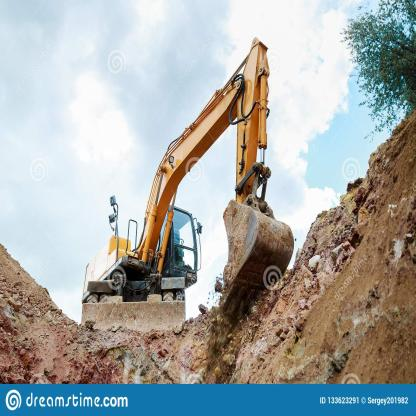excavator: (75, 35, 295, 321)
